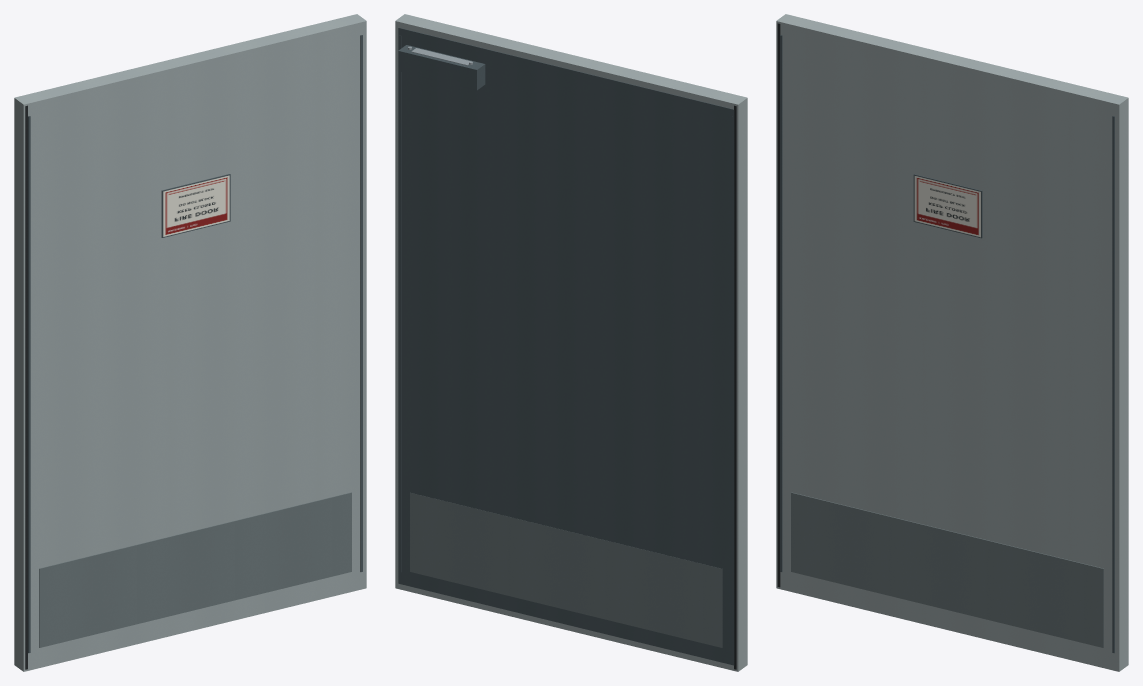
3 views of the same model, side by side, from view 1: azimuth 30°, elevation 25°; view 2: azimuth 150°, elevation 25°; view 3: azimuth 330°, elevation 25° (orthographic).
Parts seen in each view (by area): view 1: VIS_Leaf_Steel_Face, VIS_KickPlate_Front, VIS_Fire_Safety_Sign, VIS_Leaf_Seam_Edge, VIS_Stiffener_5, VIS_Stiffener_4; view 2: VIS_Leaf_Perimeter_Rebate, VIS_KickPlate_Back, VIS_Leaf_Steel_Face, VIS_Closer_Case, VIS_Leaf_Seam_Edge, VIS_Stiffener_3, VIS_Stiffener_2; view 3: VIS_Leaf_Steel_Face, VIS_KickPlate_Front, VIS_Fire_Safety_Sign, VIS_Leaf_Seam_Edge, VIS_Stiffener_4, VIS_Stiffener_5.
Part boxes in pixels (box(x1,y1,x2,y2)): VIS_Leaf_Steel_Face: box(14, 14, 366, 671); VIS_KickPlate_Front: box(39, 492, 351, 647); VIS_Fire_Safety_Sign: box(163, 175, 229, 236); VIS_Leaf_Seam_Edge: box(25, 105, 27, 669); VIS_Stiffener_5: box(28, 116, 30, 653); VIS_Stiffener_4: box(360, 35, 362, 571); VIS_Leaf_Perimeter_Rebate: box(398, 27, 734, 665); VIS_KickPlate_Back: box(410, 492, 722, 647); VIS_Leaf_Steel_Face: box(395, 14, 747, 671); VIS_Closer_Case: box(398, 45, 485, 90); VIS_Leaf_Seam_Edge: box(734, 105, 736, 669); VIS_Stiffener_3: box(731, 116, 733, 652); VIS_Stiffener_2: box(399, 35, 401, 571); VIS_Leaf_Steel_Face: box(776, 14, 1128, 671); VIS_KickPlate_Front: box(791, 492, 1103, 647); VIS_Fire_Safety_Sign: box(914, 176, 980, 237); VIS_Leaf_Seam_Edge: box(777, 23, 780, 587); VIS_Stiffener_4: box(1112, 116, 1114, 653); VIS_Stiffener_5: box(780, 35, 782, 571).
Size of the model in its own units: 1.4 by 2.22 by 0.155.
Materials: 6 (6 with a texture image).
